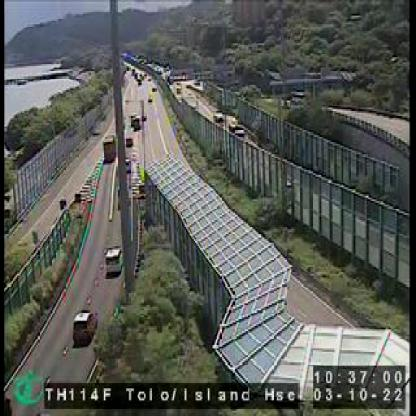Bus: (101, 133, 112, 163)
Car: (73, 308, 97, 342), (105, 246, 121, 271)
